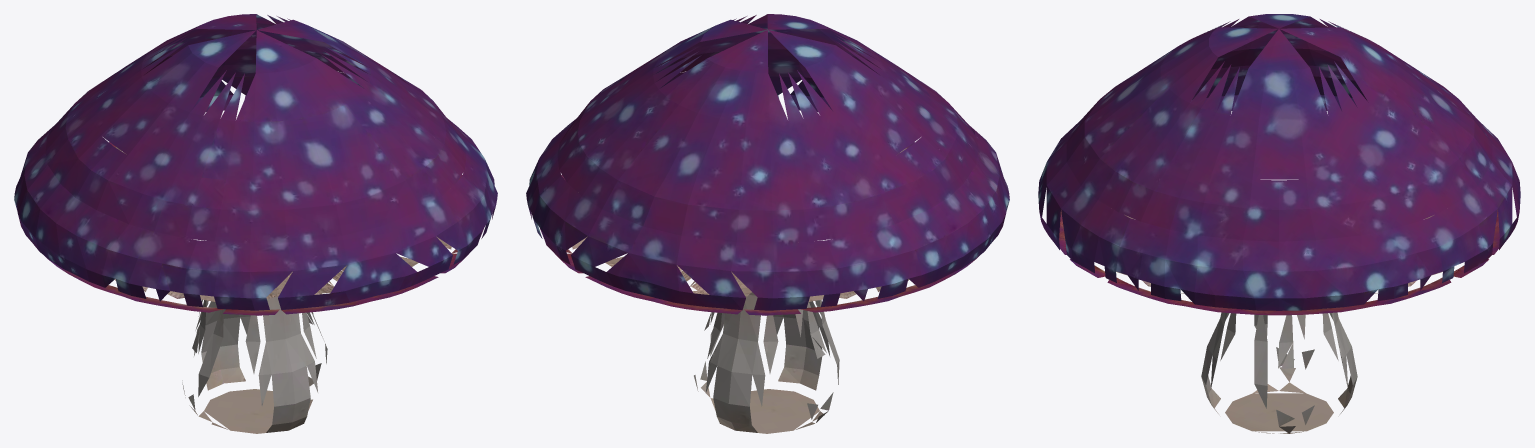
Rendered from tree_mushroom_LOD1.glb.
The picture shows the model from 3 angles, left to right: view 1: azimuth 30°, elevation 25°; view 2: azimuth 150°, elevation 25°; view 3: azimuth 270°, elevation 25°; orthographic projection.
Visible parts, largest first — view 1: tree_mushroom_LOD1; view 2: tree_mushroom_LOD1; view 3: tree_mushroom_LOD1.
Part boxes in pixels (x1,y1,x2,y2): tree_mushroom_LOD1: [14, 14, 497, 433]; tree_mushroom_LOD1: [526, 14, 1009, 433]; tree_mushroom_LOD1: [1038, 14, 1520, 433].
Bounding box in the file's own units: 1 × 0.8747 × 0.9961.
1 material, 1 textured.
